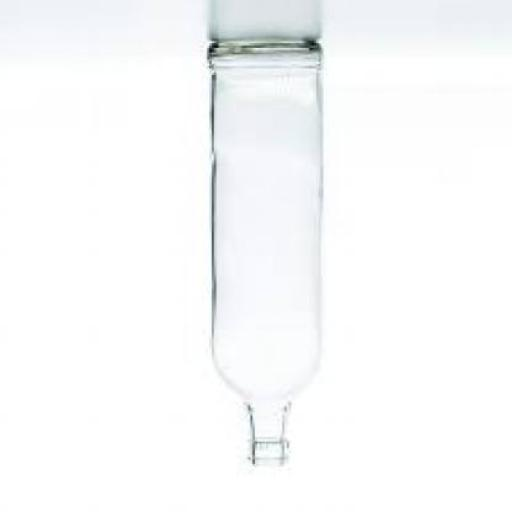glass: (205, 43, 321, 467)
